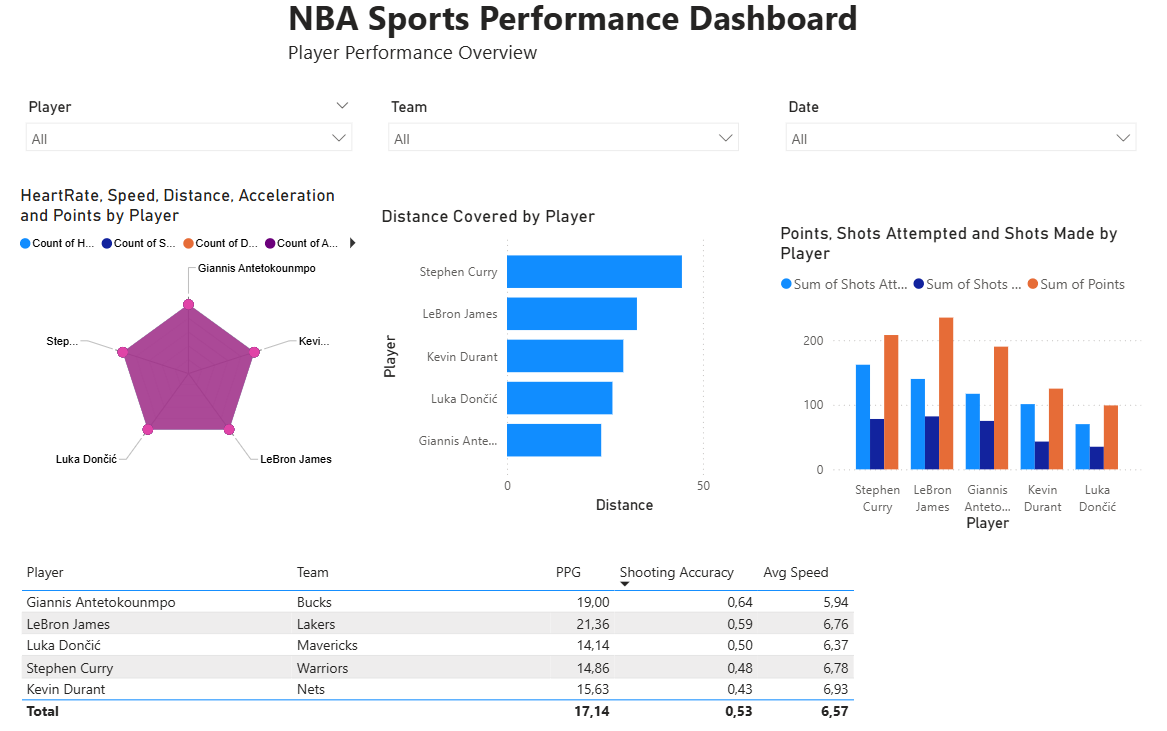

The page's visual inventory and layout, read from the dashboard file:
{"tool":"powerbi","page":{"name":"Page 1","canvas":[1280,720],"ordinal":0},"visuals":[{"type":"clusteredColumnChart","title":"Points, Shots Attempted and Shots Made by Player","fields":{"Y":["Sum(Sheet1 (2).Shots Attempted)","Sum(Sheet1 (2).Shots Made)","Sum(Sheet1 (2).Points)"],"Category":["Sheet1 (2).Player"]},"box":[840.7,224.6,357.2,301.6],"z":0},{"type":"clusteredBarChart","title":"Distance Covered by Player","fields":{"Category":["Sheet1 (2).Player"],"Y":["Sum(Sheet1 (2).Distance)"]},"box":[457.8,207.5,363.6,301.6],"z":1000},{"type":"textbox","box":[367.1,0,640,84.3],"z":2000},{"type":"RadarChart1446119667547","title":"HeartRate, Speed, Distance, Acceleration and Points by Player","fields":{"Y":["CountNonNull(Sheet1 (3).HeartRate)","CountNonNull(Sheet1 (3).Speed)","CountNonNull(Sheet1 (3).Distance)","CountNonNull(Sheet1 (3).Acceleration)","CountNonNull(Sheet1 (3).Points)"],"Category":["Sheet1 (2).Player"]},"box":[110.5,187.2,333.7,300],"z":3000},{"type":"slicer","fields":{"Values":["Sheet1 (2).Player"]},"box":[110.5,100,333.7,67.4],"z":4000},{"type":"slicer","fields":{"Values":["Sheet1 (2).Team"]},"box":[458.1,100,357,67.4],"z":5000},{"type":"slicer","fields":{"Values":["Sheet1 (2).Date"]},"box":[840.7,100,357,67.4],"z":6000},{"type":"tableEx","fields":{"Values":["Sheet1 (3).Player","Sheet1 (3).Team","Sheet1 (3).PPG","Sheet1 (3).Shooting Accuracy","Sheet1 (3).Avg Speed"]},"box":[110.5,543.9,834.5,176.5],"z":7000}]}

Visuals, with their boxes on the page's 1280x720 design canvas (x1, y1, x2, y2). These are canvas units, not pixel positions in the 1167x731 screenshot, which may show the page scaled, cropped or inside an application window:
"Points, Shots Attempted and Shots Made by Player" clusteredColumnChart: <box>841,225,1198,526</box>
"Distance Covered by Player" clusteredBarChart: <box>458,208,821,509</box>
textbox: <box>367,0,1007,84</box>
"HeartRate, Speed, Distance, Acceleration and Points by Player" RadarChart1446119667547: <box>110,187,444,487</box>
slicer - Sheet1 (2).Player: <box>110,100,444,167</box>
slicer - Sheet1 (2).Team: <box>458,100,815,167</box>
slicer - Sheet1 (2).Date: <box>841,100,1198,167</box>
tableEx - Sheet1 (3).Player x Sheet1 (3).Team: <box>110,544,945,720</box>
